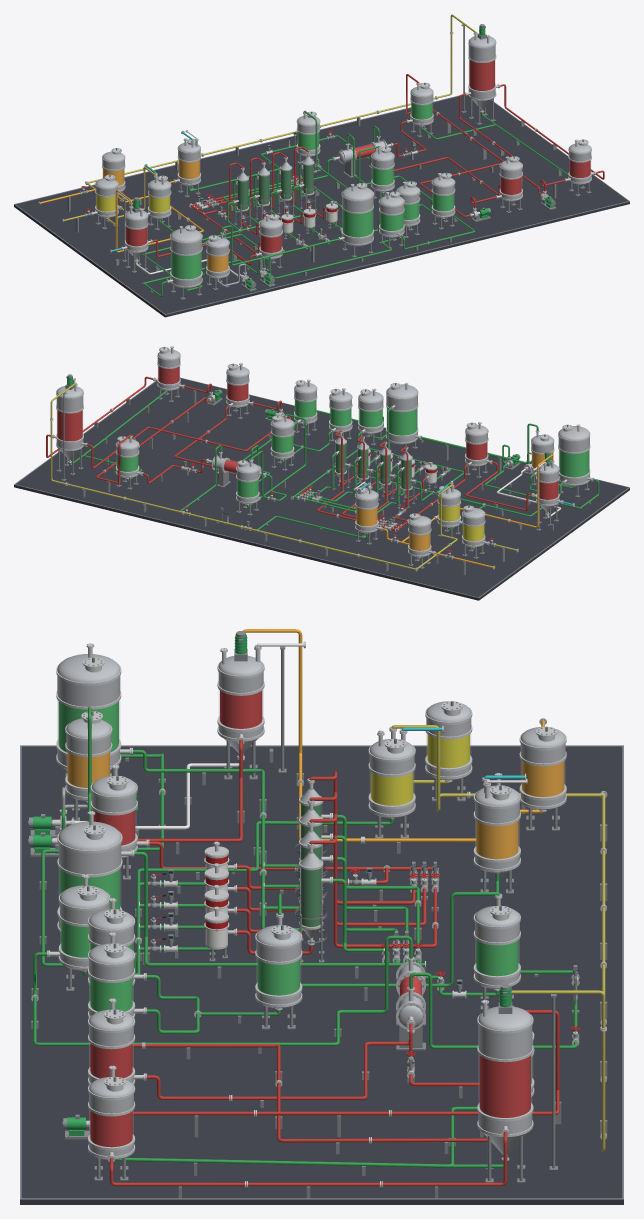
The model's file is sxema.glb.
The picture shows the model from 3 angles, top to bottom: view 1: azimuth 30°, elevation 25°; view 2: azimuth 150°, elevation 25°; view 3: azimuth 270°, elevation 25°; orthographic projection. The views are drawn at different scales.
Visible parts, largest first — view 1: Platform, E16, E3, E5, Pipe_Supports, E7, E4, E14, E9, E10_2, E15, E6 (+20 smaller); view 2: Platform, E16, E5, E3, Pipe_Supports, Pipe_Acid_Main_E16, E7, E4, E14, E9, E8, E11 (+25 smaller); view 3: Platform, E16, E5, E7, Pipe_Supports, E3, E14, E11, E9, E2, E13, E12 (+42 smaller).
Part boxes in pixels (x1,y1,x2,y2): Platform: (14,95,629,317); E16: (465,24,499,124); E3: (339,183,373,257); E5: (168,225,202,299); Pipe_Supports: (67,24,561,292); E7: (122,197,152,272); E4: (379,191,404,249); E14: (174,138,200,197); E9: (565,139,595,196); E10_2: (431,172,455,229); E15: (497,156,522,212); E6: (206,232,229,289); Platform: (14,377,629,600); E16: (52,374,86,475); E5: (558,424,592,497); E3: (386,383,420,451); Pipe_Supports: (61,390,590,575); Pipe_Acid_Main_E16: (50,382,417,570); E7: (532,451,562,526); E4: (358,388,383,445); E14: (355,483,381,544); E9: (153,346,183,402); E8: (465,422,491,477); E11: (270,415,294,470); Platform: (20,745,623,1204); E16: (477,984,533,1182); E5: (56,643,131,793); E7: (217,631,264,779); Pipe_Supports: (31,646,607,1198); E3: (57,811,132,932); E14: (473,779,520,893); E11: (255,916,302,1029); E9: (88,1065,135,1180); E2: (368,729,415,838); E13: (519,726,566,830); E12: (473,896,520,1009).
Size of what is drawn, in the model's own units: 23.88 by 4.74 by 13.44.
